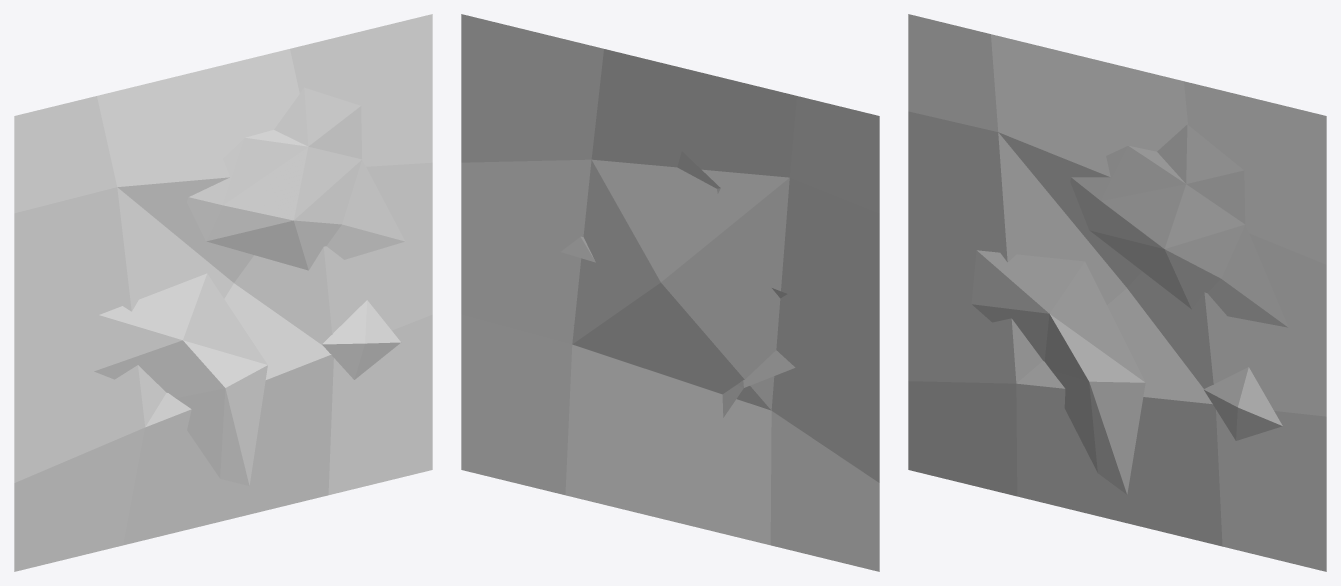
The model's file is SM_Env_Ivy_Flowers_03.glb.
The picture shows the model from 3 angles, left to right: view 1: azimuth 30°, elevation 25°; view 2: azimuth 150°, elevation 25°; view 3: azimuth 330°, elevation 25°; orthographic projection.
Parts seen in each view (by area): view 1: SM_Env_Ivy_Flowers_03; view 2: SM_Env_Ivy_Flowers_03; view 3: SM_Env_Ivy_Flowers_03.
Boxes of the visible parts, x1,y1,x2,y2 form: SM_Env_Ivy_Flowers_03: [14, 14, 432, 571]; SM_Env_Ivy_Flowers_03: [461, 14, 879, 571]; SM_Env_Ivy_Flowers_03: [908, 14, 1326, 571].
Bounding box in the file's own units: 1.57 × 1.63 × 0.0982.
1 material, 1 textured.
